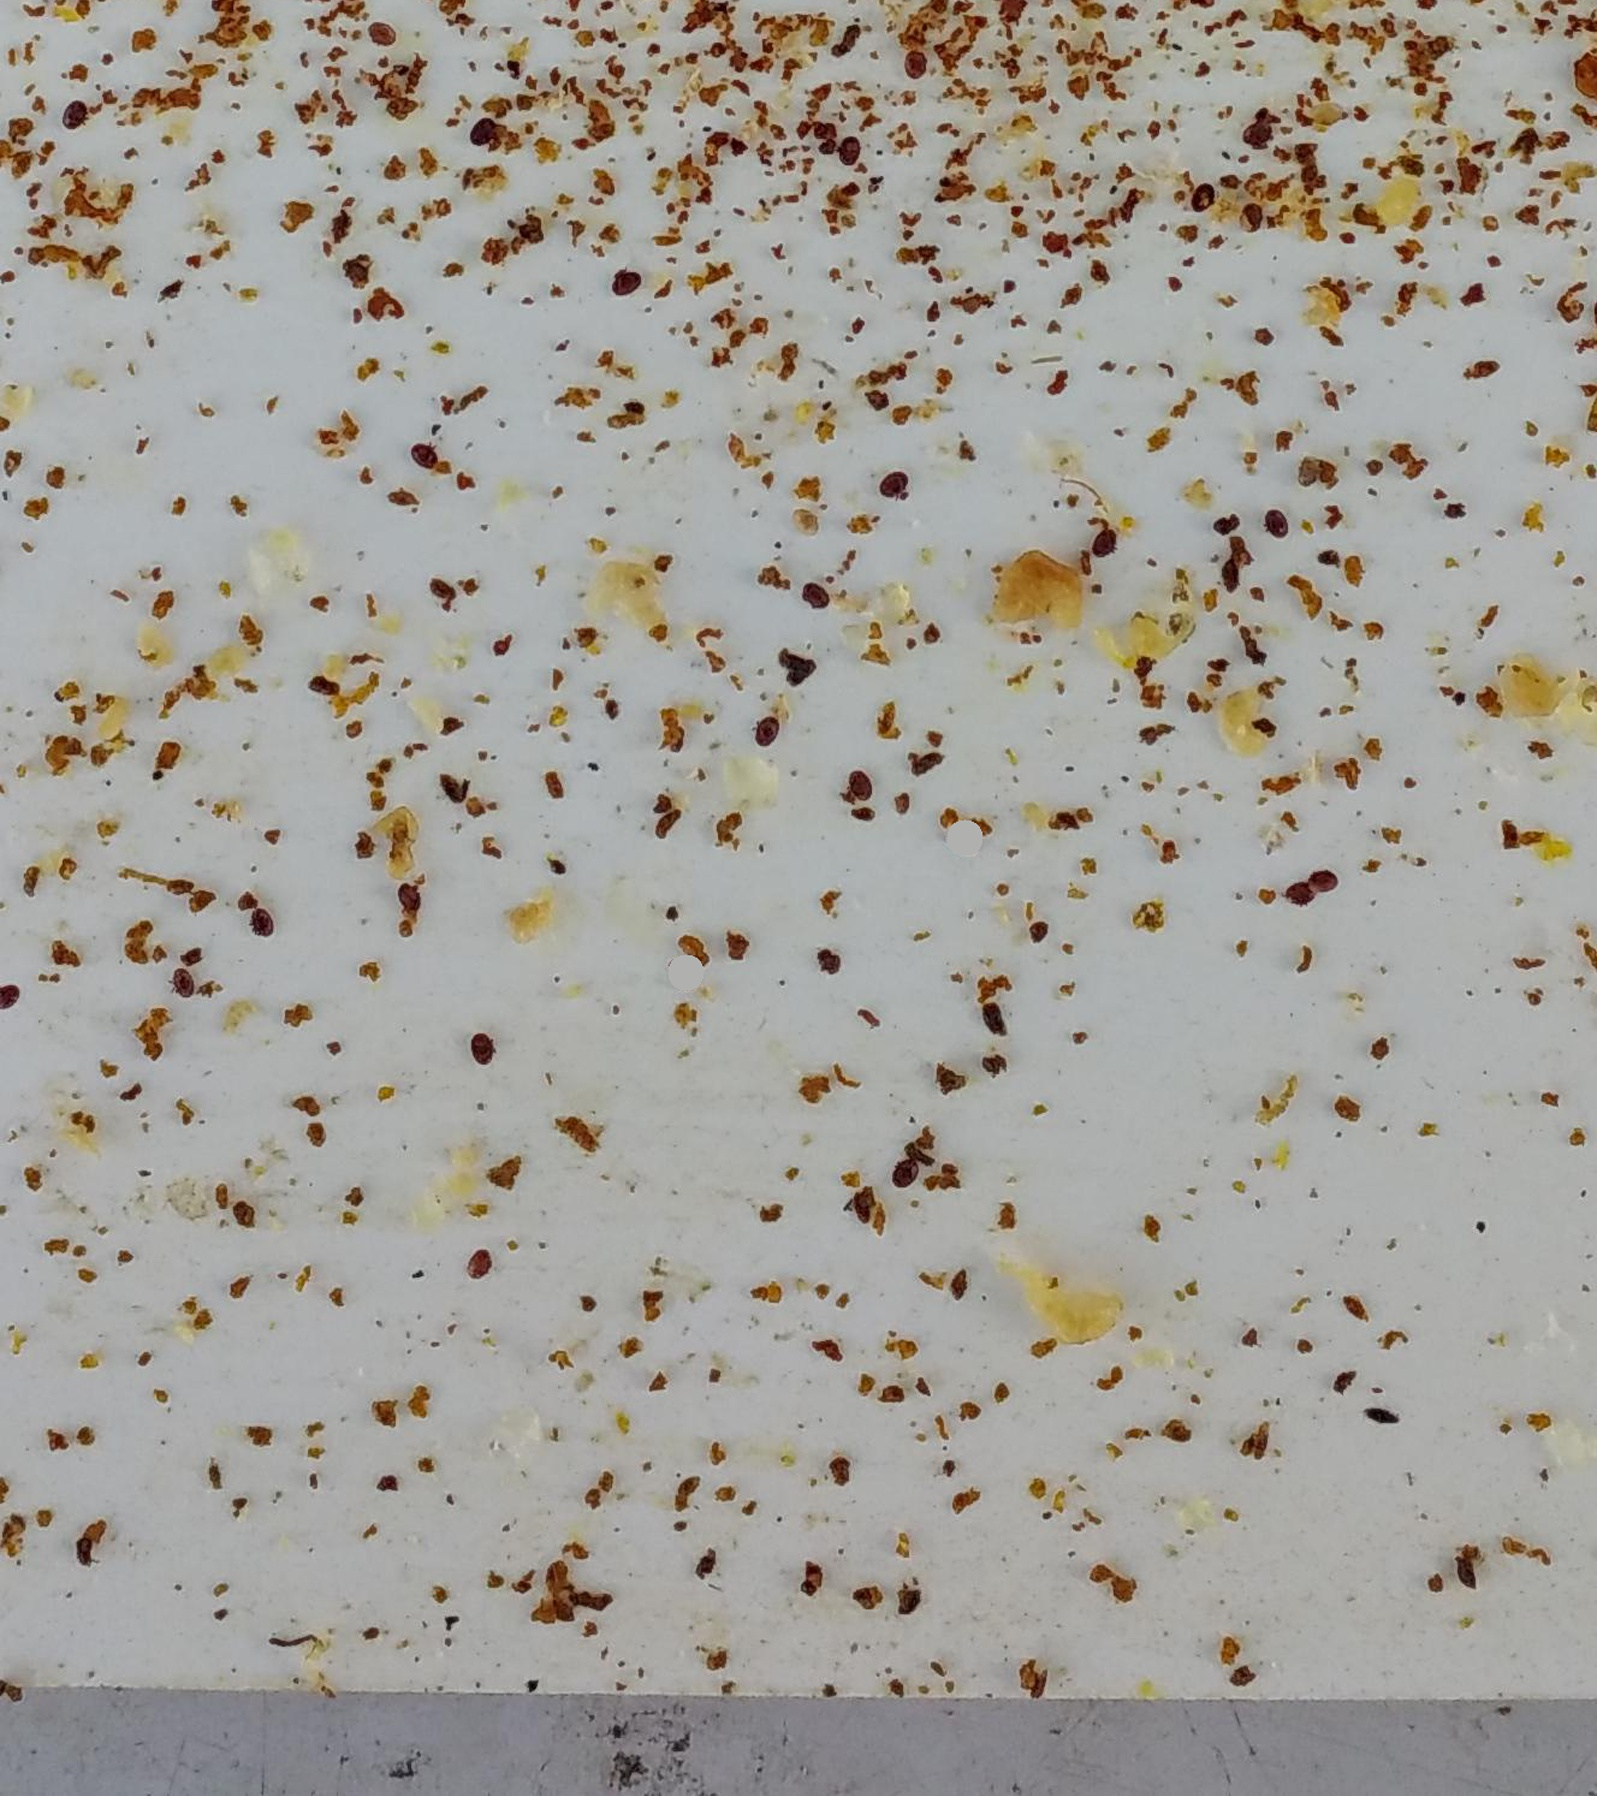Varroa: (834, 136, 868, 170), (876, 466, 908, 499), (1241, 119, 1273, 151), (899, 49, 930, 82), (1286, 882, 1316, 914), (797, 575, 828, 606), (748, 717, 778, 748), (459, 1246, 490, 1276), (1239, 197, 1269, 230), (365, 18, 395, 49), (894, 1156, 923, 1187), (1306, 874, 1335, 905), (170, 968, 197, 997), (849, 768, 877, 797), (467, 1028, 495, 1058), (1189, 180, 1216, 210), (393, 880, 421, 908), (1081, 530, 1108, 558), (614, 264, 641, 291), (247, 913, 274, 940), (408, 446, 436, 473), (467, 116, 495, 143), (1259, 507, 1289, 533), (60, 100, 86, 126)
